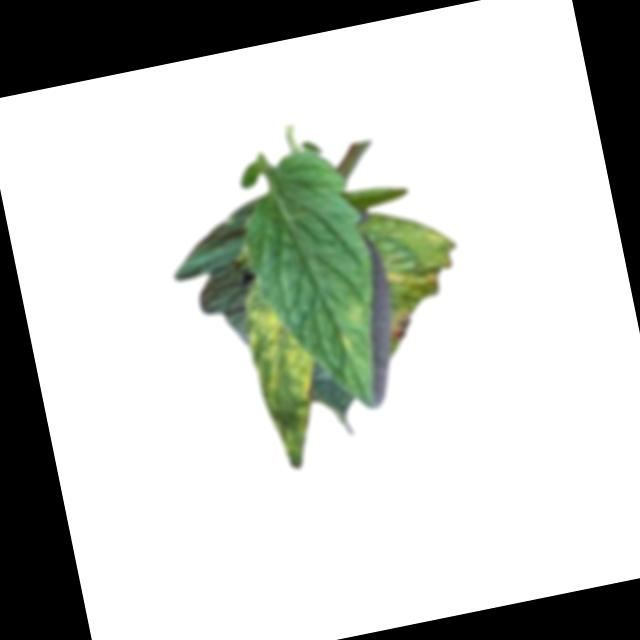Leaf_Mold: (238, 283, 330, 453), (369, 221, 475, 341), (330, 295, 377, 361)
